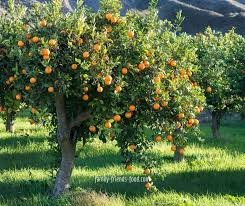orange: (119, 66, 128, 75), (124, 112, 132, 119)
